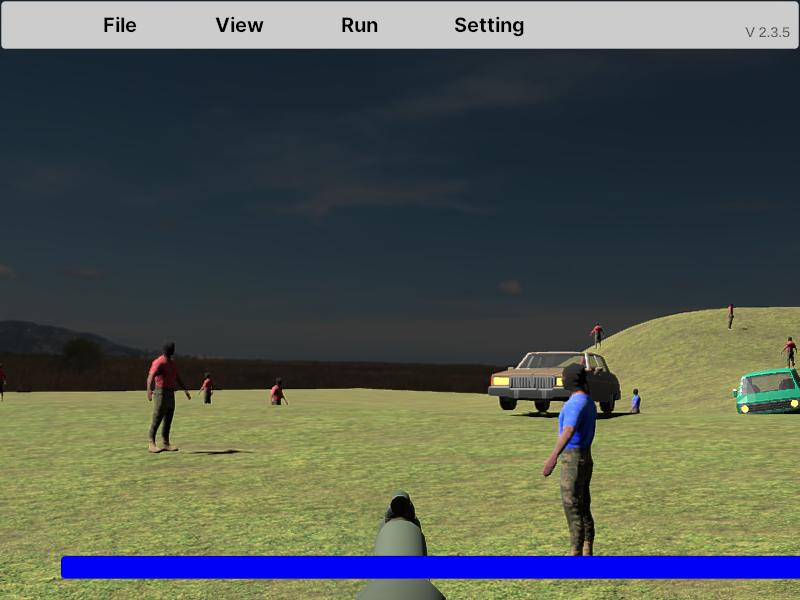Human: (542, 360, 596, 563), (147, 342, 190, 453)
car: (733, 368, 800, 422)
